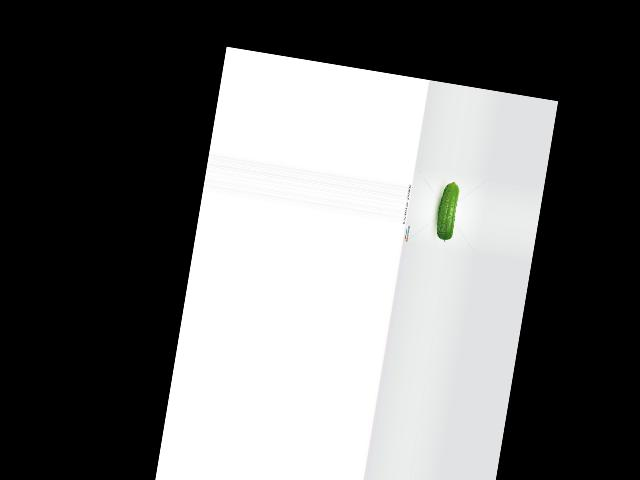cucumber: (433, 179, 461, 242)
